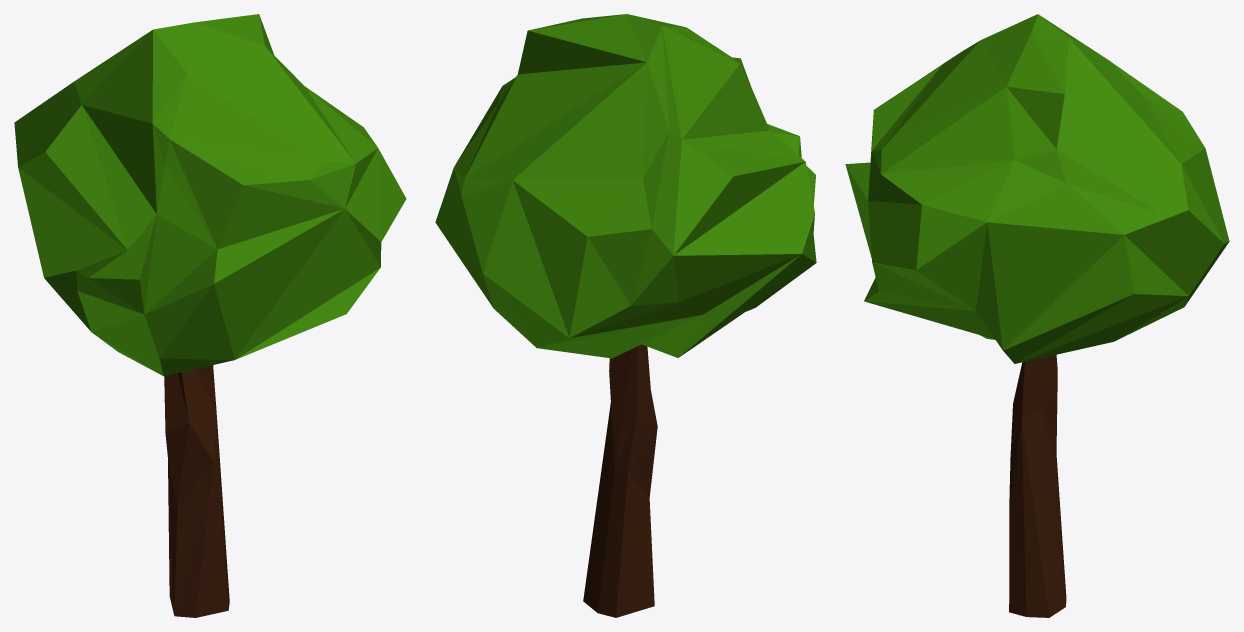
File: tree small.fbx
3 renders of one model, left to right at view 1: azimuth 30°, elevation 25°; view 2: azimuth 150°, elevation 25°; view 3: azimuth 270°, elevation 25°, orthographic. The views are drawn at different scales.
Parts seen in each view (by area): view 1: tree top 002, tree bottom002; view 2: tree top 002, tree bottom002; view 3: tree top 002, tree bottom002.
Boxes of the visible parts, x1,y1,x2,y2 form: tree top 002: [14, 14, 406, 376]; tree bottom002: [164, 365, 229, 617]; tree top 002: [435, 14, 816, 358]; tree bottom002: [583, 344, 657, 617]; tree top 002: [845, 14, 1229, 363]; tree bottom002: [1009, 354, 1066, 617].
Bounding box in the file's own units: 7.02 × 12.46 × 7.62.
